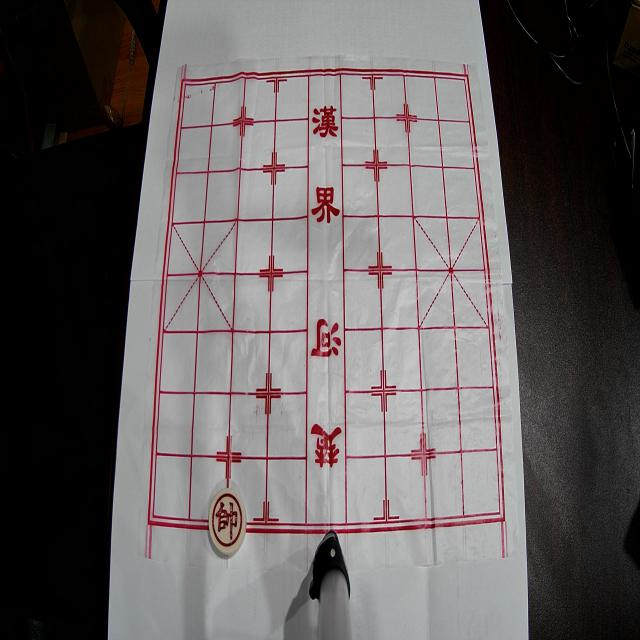red-general: (208, 488, 246, 555)
